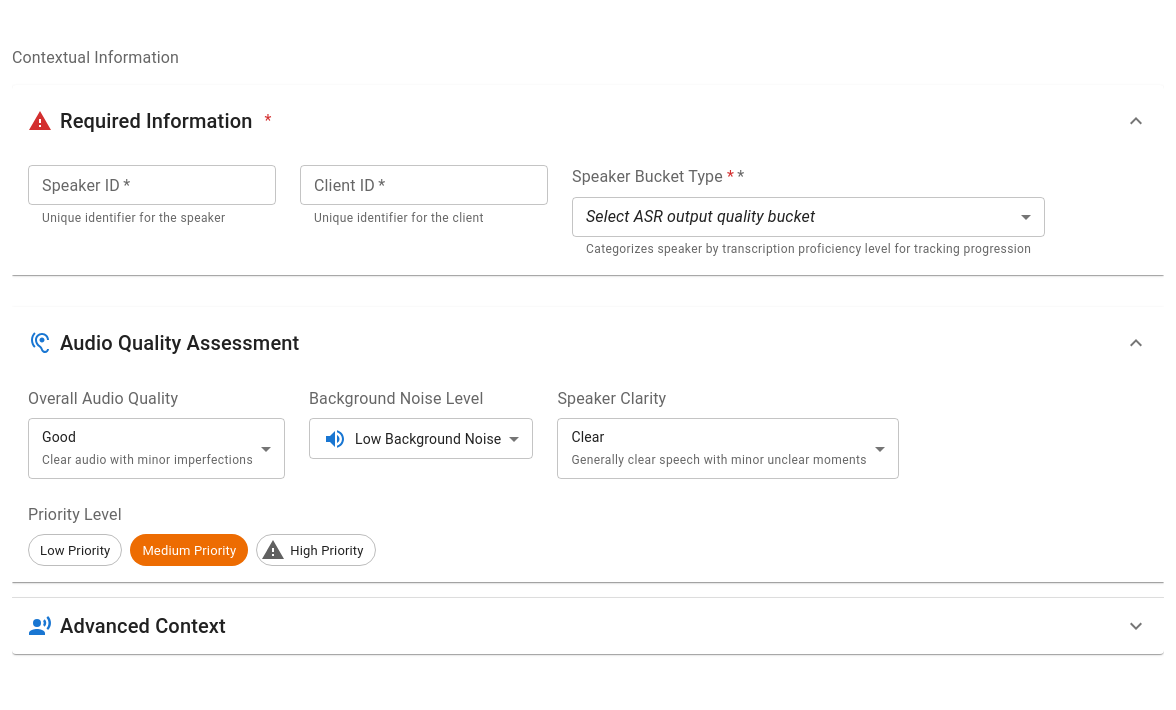
Test: MetadataInput › Contextual Tags › shows predefined tags when advanced section is expanded
# Expand advanced section
Click the button "Advanced Context": (143, 626) [12,598,1164,654]
(page scrolled)
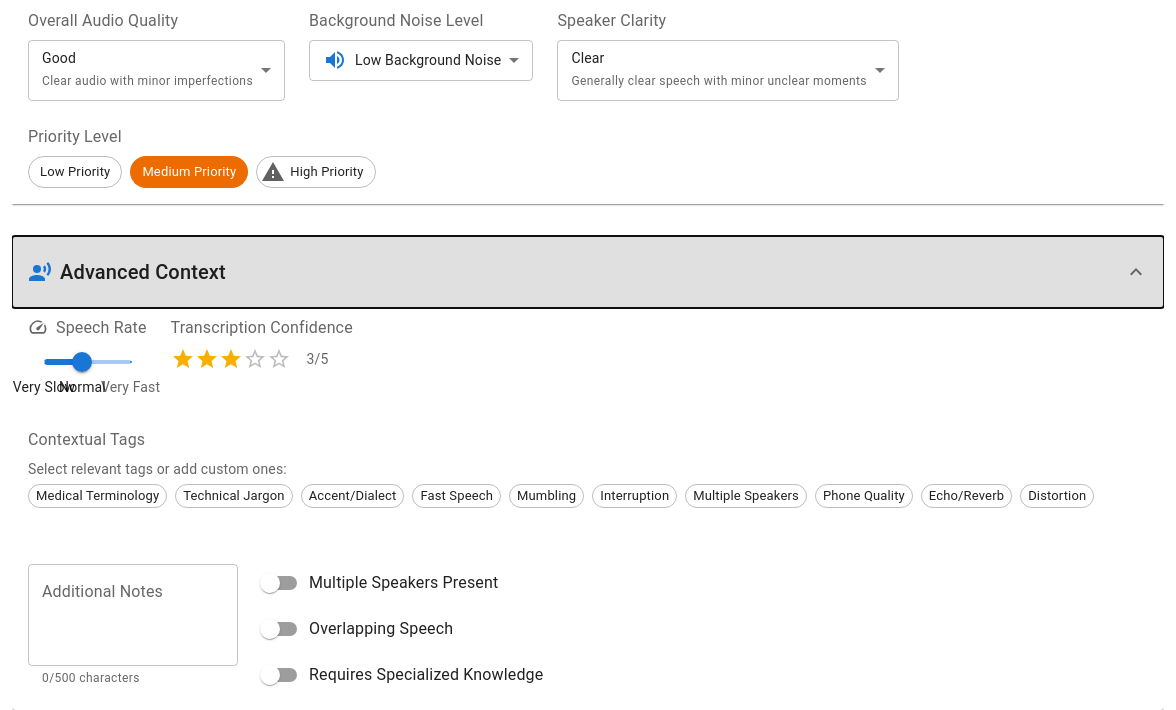
Check: the text "Medical Terminology" is shown, box [29,486,166,506]
Check: the text "Technical Jargon" is shown, box [176,486,292,506]
Check: the text "Accent/Dialect" is shown, box [302,486,403,506]
